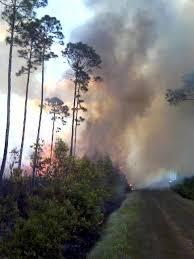fire: (21, 140, 59, 177)
yanwu: (64, 0, 192, 190)
